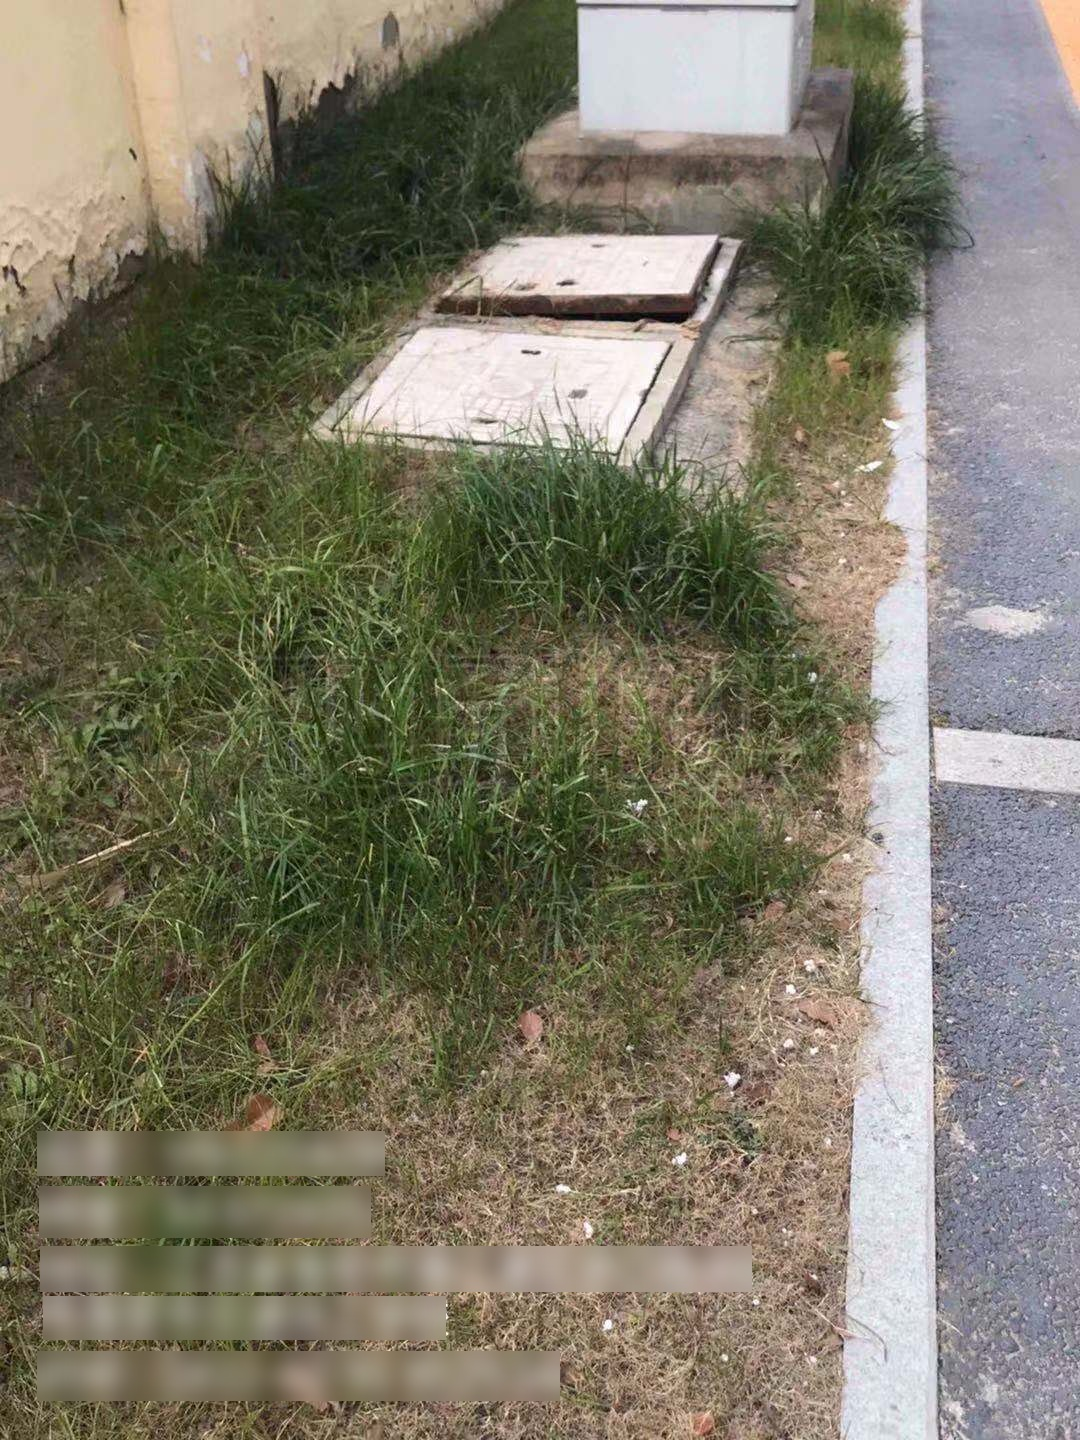good: (303, 319, 700, 474)
uncovered: (423, 230, 741, 328)
